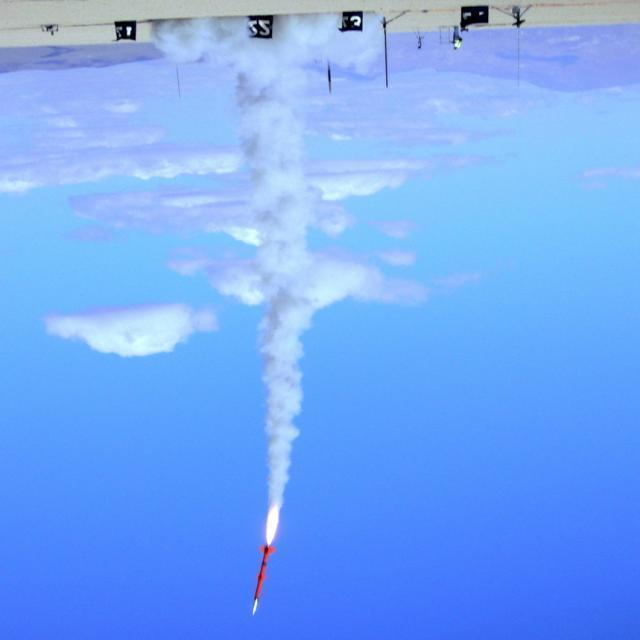Missile: (247, 541, 278, 618)
